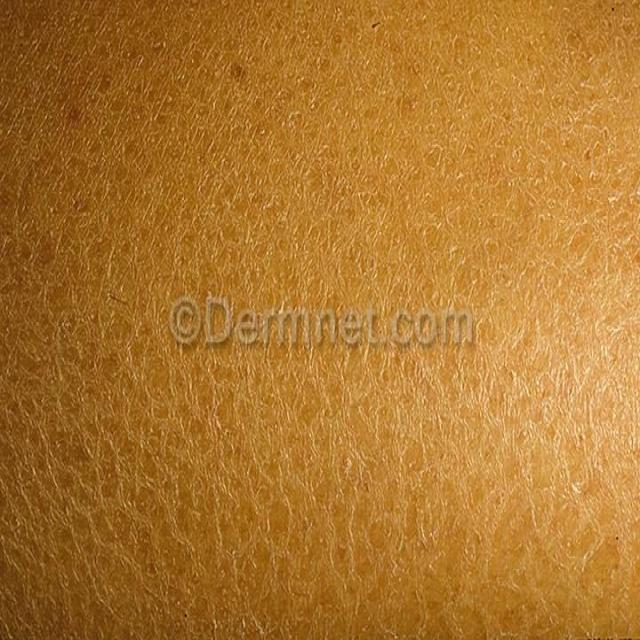Eczema: (20, 49, 638, 632)
